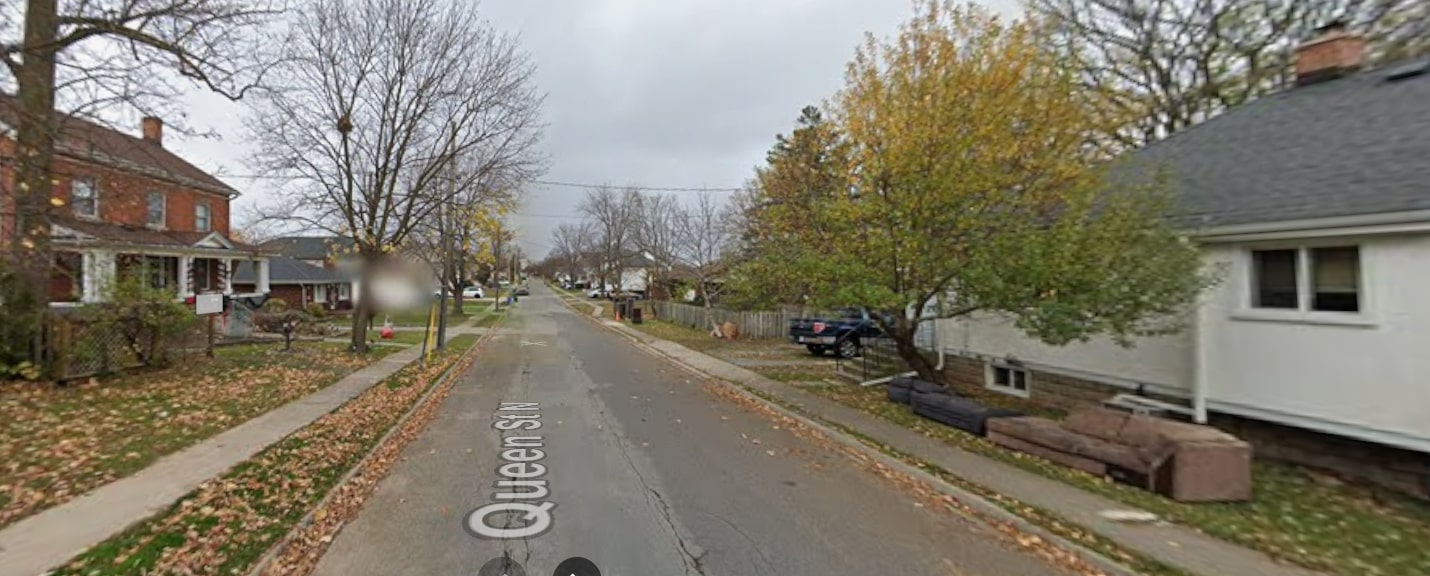cracks: (484, 529, 539, 576)
